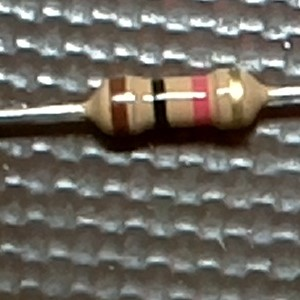black_band: (150, 76, 173, 134)
brown_band: (106, 73, 133, 140)
gold_band: (226, 65, 247, 132)
red_band: (188, 73, 214, 129)
